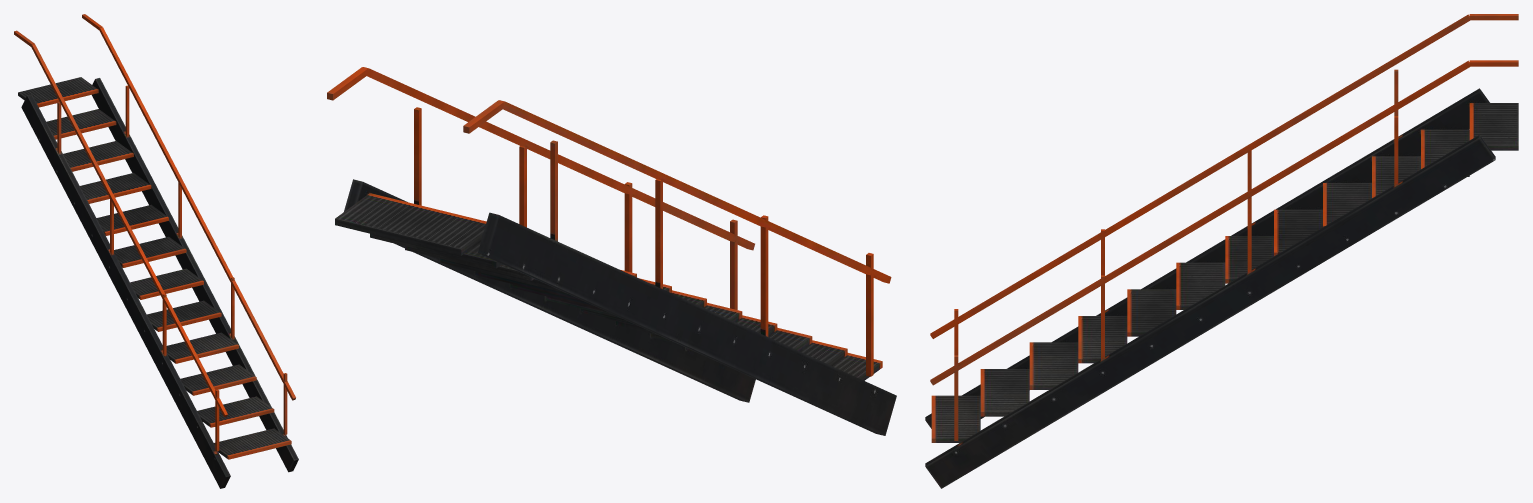
Rendered from stairs.glb.
The picture shows the model from 3 angles, left to right: view 1: azimuth 30°, elevation 25°; view 2: azimuth 150°, elevation 25°; view 3: azimuth 270°, elevation 25°; orthographic projection. The views are drawn at different scales.
Parts seen in each view (by area): view 1: stairs; view 2: stairs; view 3: stairs.
Part boxes in pixels (x1,y1,x2,y2): stairs: (14,14,298,488); stairs: (327,67,896,435); stairs: (925,14,1518,488).
Bounding box in the file's own units: 1.2 × 4.81 × 6.07.
1 material, 1 textured.
